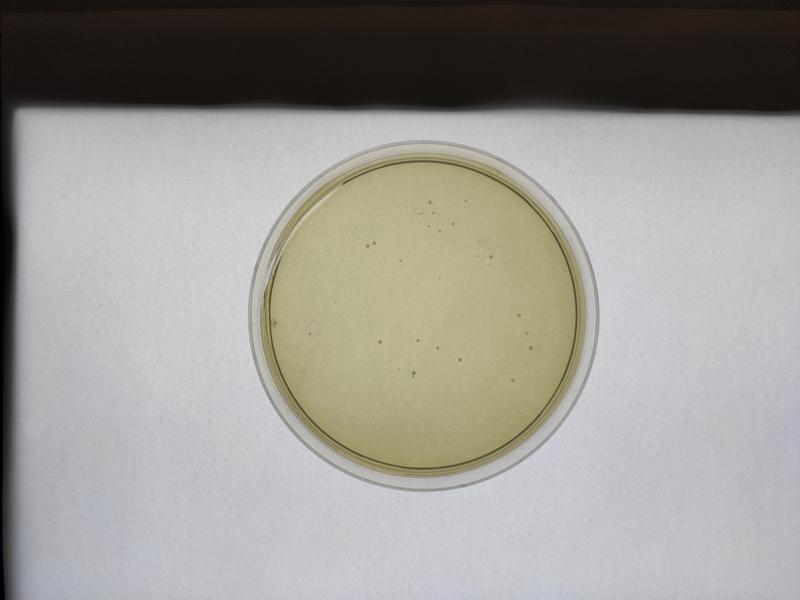colony: (506, 373, 520, 387), (523, 341, 536, 354), (459, 193, 470, 207), (514, 310, 525, 322), (412, 333, 422, 346), (485, 251, 496, 262), (374, 339, 387, 348), (425, 197, 435, 208), (455, 355, 464, 364), (523, 329, 532, 338), (432, 343, 440, 352)
